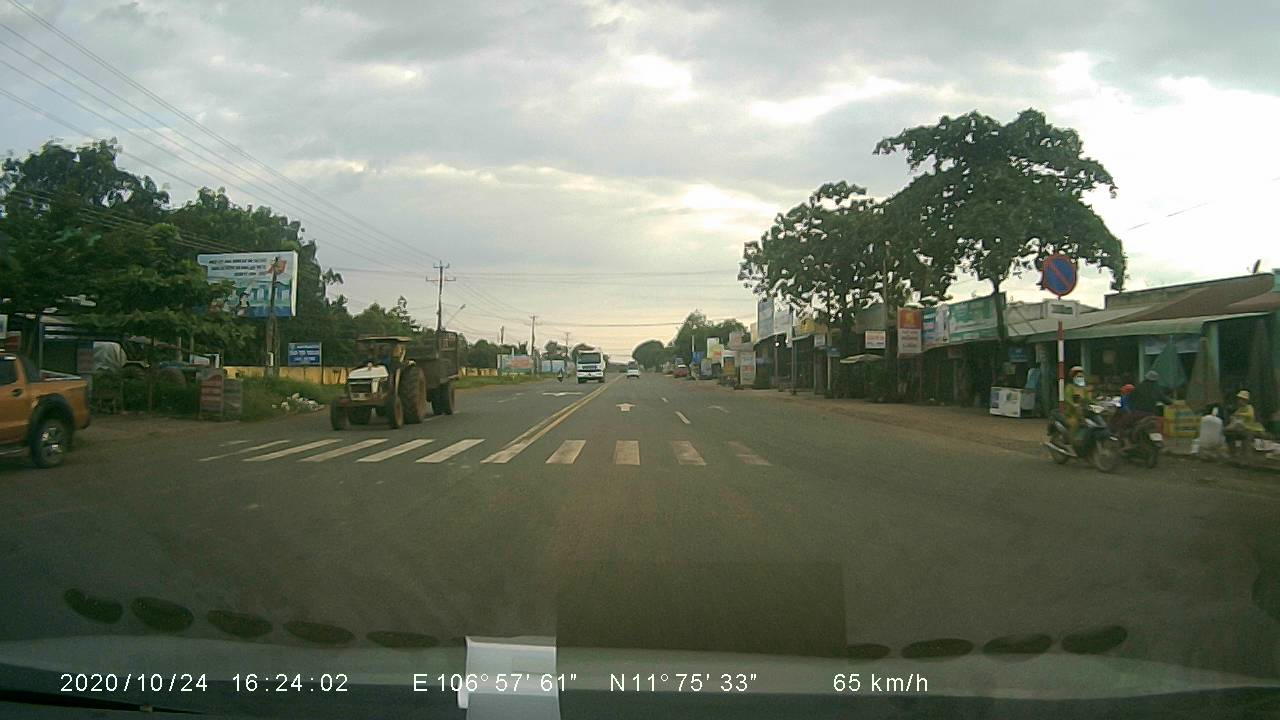Cam do xe: (1038, 249, 1079, 299)
